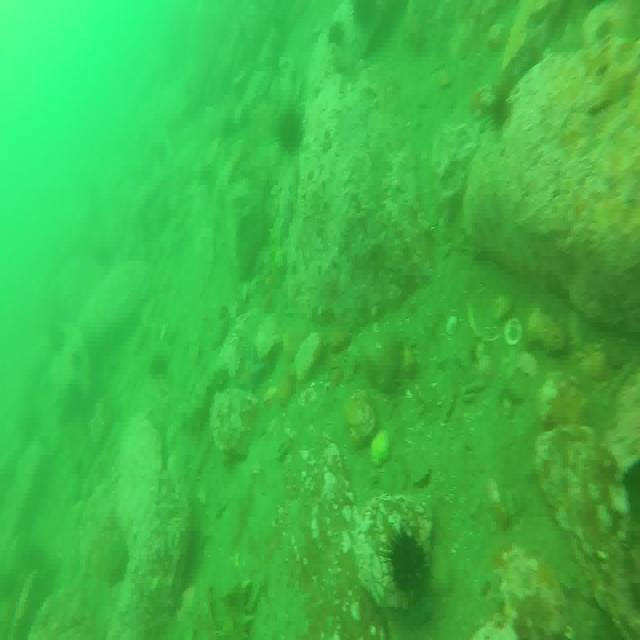echinus: (384, 528, 426, 592), (278, 105, 304, 156), (485, 89, 512, 134)
holothurian: (220, 572, 254, 640)
starfish: (238, 343, 266, 399)
